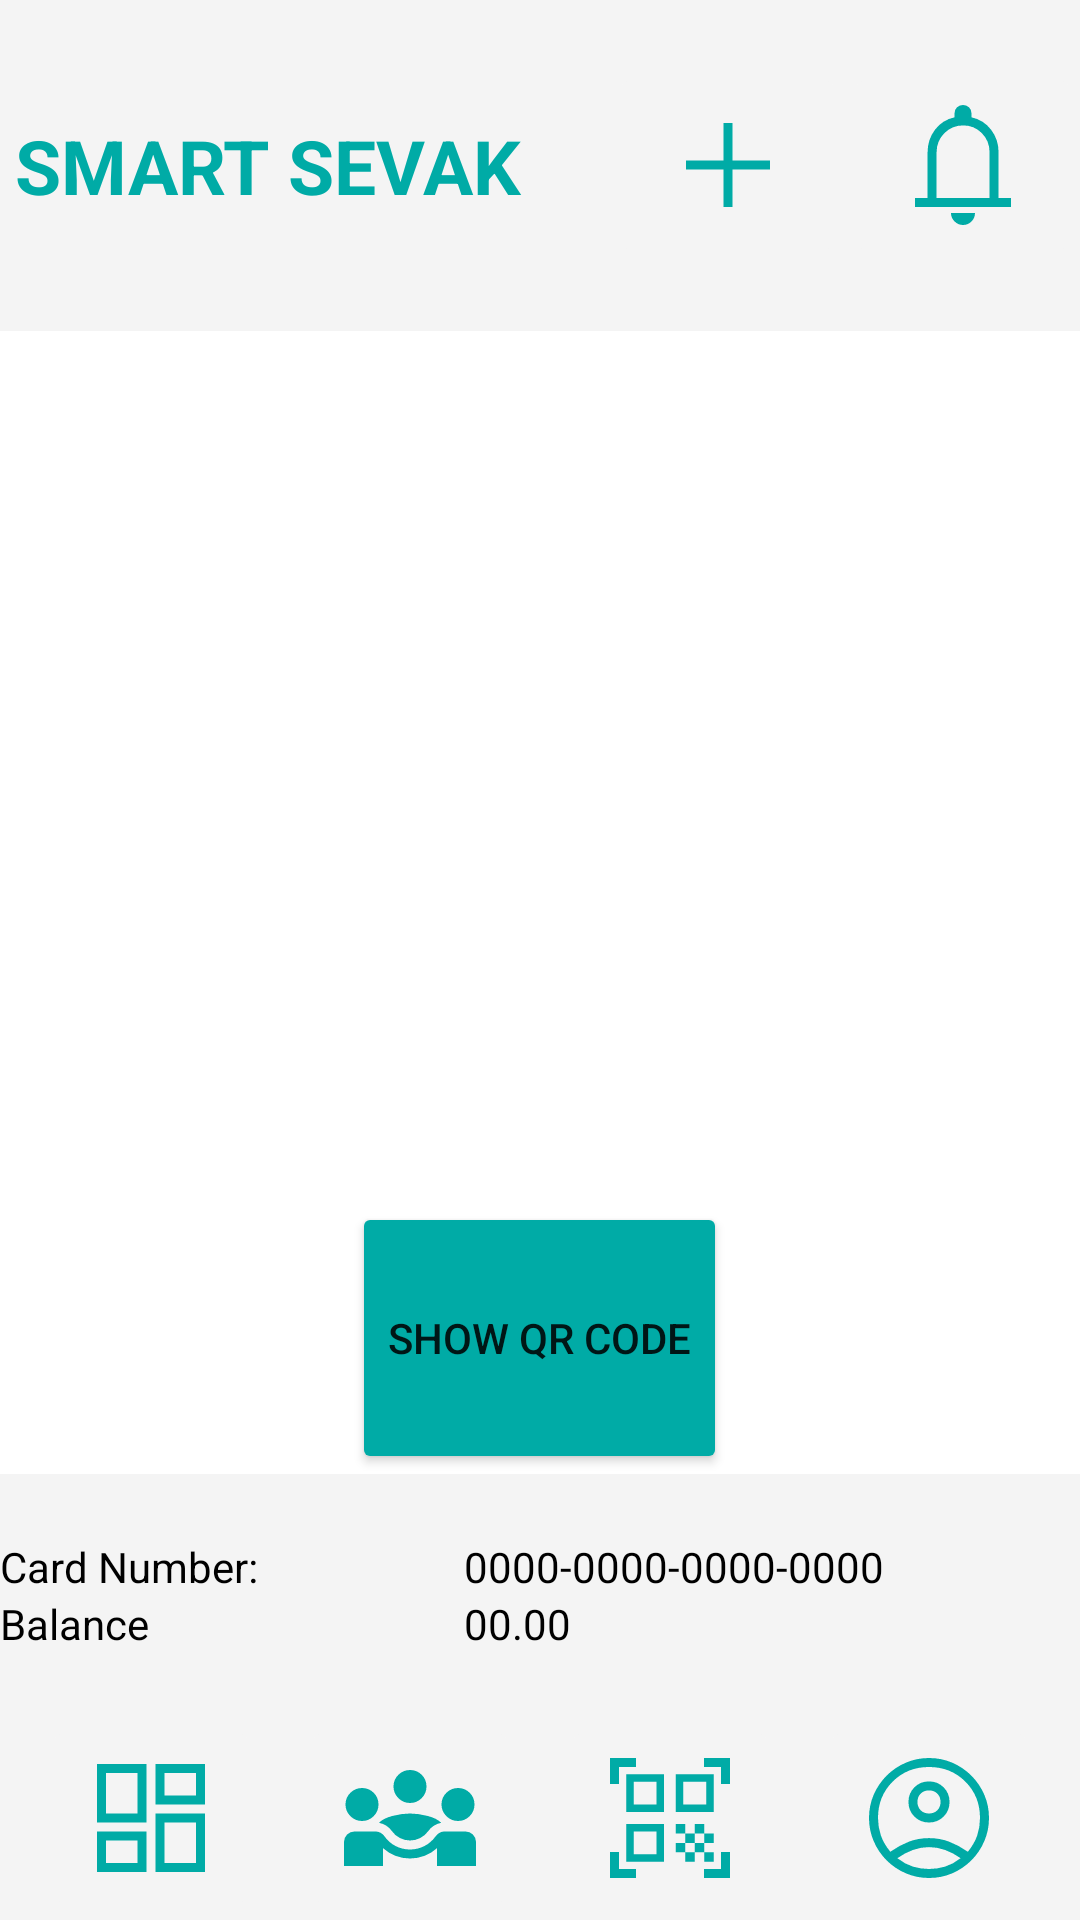

Icon bounding boxes for this 1080w x 1920h phone screenshot, format (x1, y1, x2, y2):
addicon: (686, 123, 770, 207)
bellbutton: (915, 105, 1011, 225)
commicon: (344, 1770, 476, 1866)
dashbuttonicon: (97, 1764, 205, 1872)
profilebuttonicon: (869, 1758, 989, 1878)
qrbuttonicon: (610, 1758, 730, 1878)
